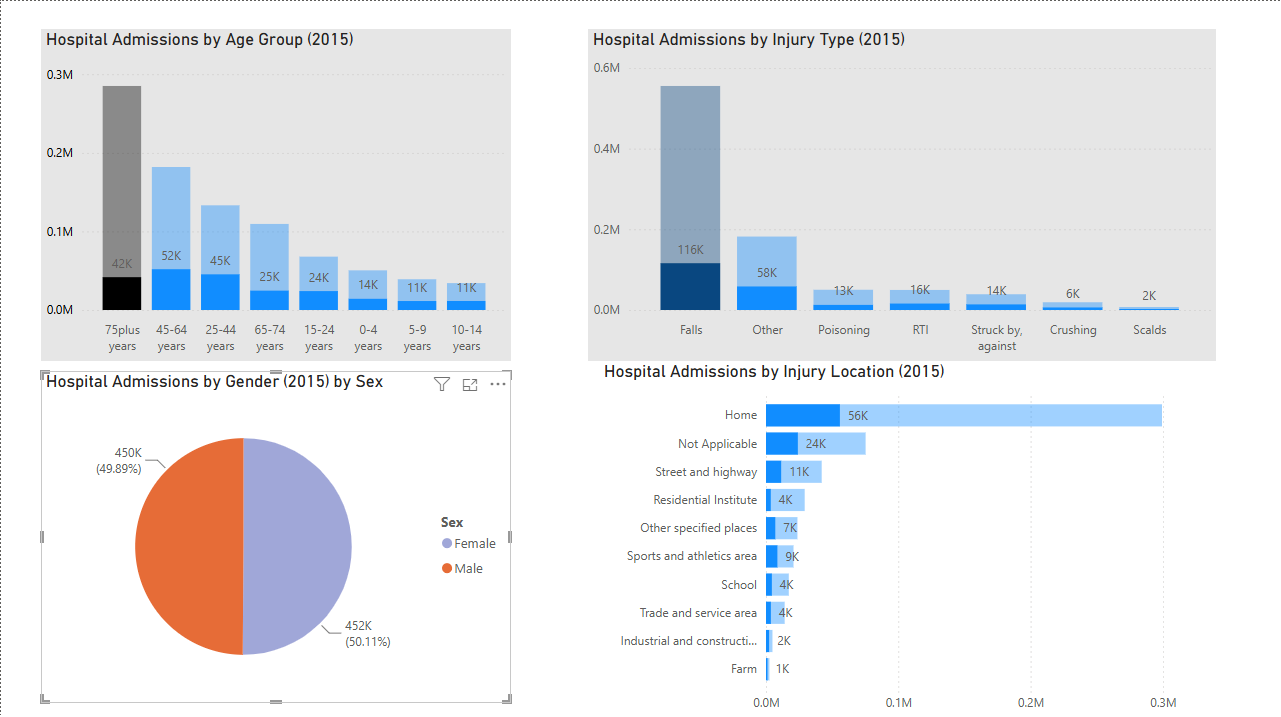

Layout of this report page (visuals, bound fields, positions):
{"tool":"powerbi","page":{"name":"Admissions ","canvas":[1280,720],"ordinal":0},"visuals":[{"type":"clusteredColumnChart","title":"Hospital Admissions by Age Group (2015)","fields":{"Category":["DimAgeGroup.AgeGroup"],"Y":["Sum(Admissions_2015.NumberOfAdmissions)"]},"box":[39.9,28.2,469.8,331.7],"z":0},{"type":"columnChart","title":"Hospital Admissions by Injury Type (2015)","fields":{"Category":["DimInjuryType_New.InjuryType"],"Y":["Sum(Admissions_2015.NumberOfAdmissions)"]},"box":[586.5,28.2,628.3,331.7],"z":1000},{"type":"pieChart","fields":{"Category":["DimSex.Sex"],"Y":["Sum(Admissions_2015.NumberOfAdmissions)"]},"box":[40,370,470,332],"z":2000},{"type":"clusteredBarChart","title":"Hospital Admissions by Injury Location (2015)","fields":{"Category":["Admissions_2015.InjuryLocation"],"Y":["Sum(Admissions_2015.NumberOfAdmissions)"]},"box":[598.2,359.9,616.7,359.9],"z":3000}]}

Visuals, with their boxes in screenshot pixels (x1, y1, x2, y2), scaled from the page's 1280x720 canvas onto the 1281x717 screenshot:
"Hospital Admissions by Age Group (2015)" clusteredColumnChart: BBox(40, 28, 510, 358)
"Hospital Admissions by Injury Type (2015)" columnChart: BBox(587, 28, 1216, 358)
pieChart - DimSex.Sex x Sum(Admissions_2015.NumberOfAdmissions): BBox(40, 368, 510, 699)
"Hospital Admissions by Injury Location (2015)" clusteredBarChart: BBox(599, 358, 1216, 716)
